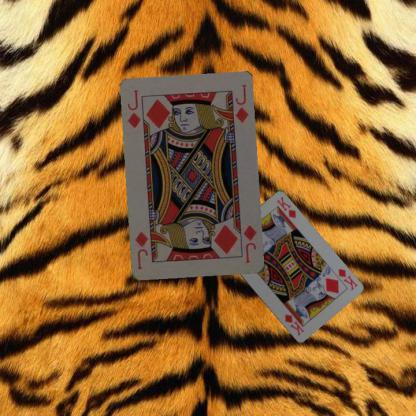Jd: (125, 87, 142, 130), (241, 222, 258, 264)
Kd: (330, 266, 359, 292)
